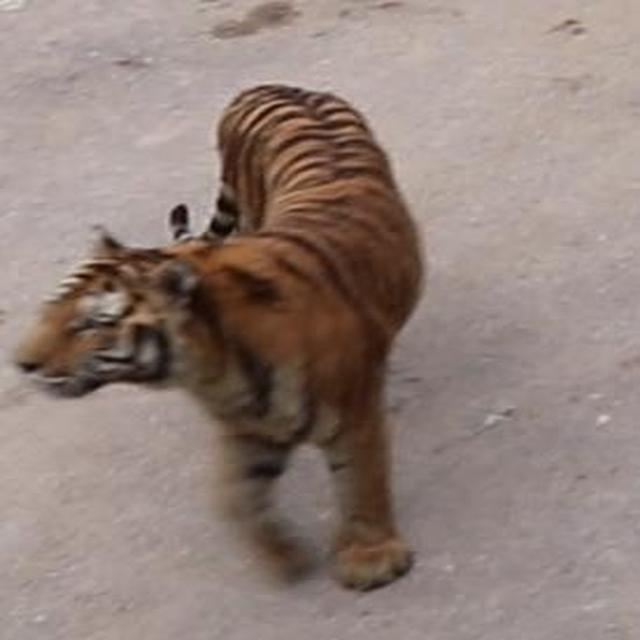tiger: (12, 81, 426, 592)
